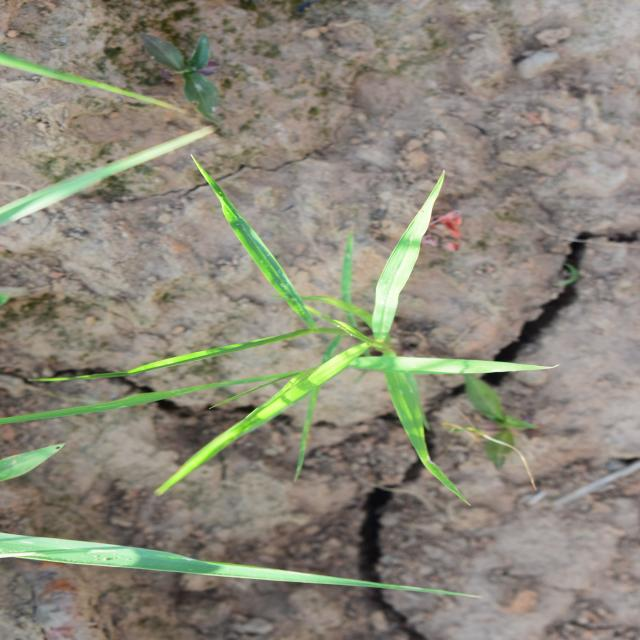green_foxtail: (178, 121, 448, 523)
